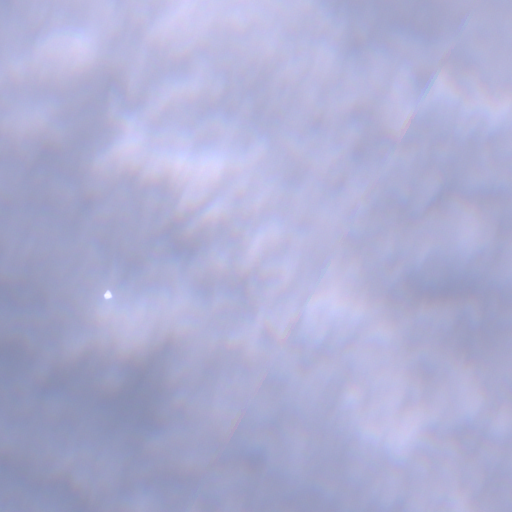Iceberg: (104, 291, 111, 298)
